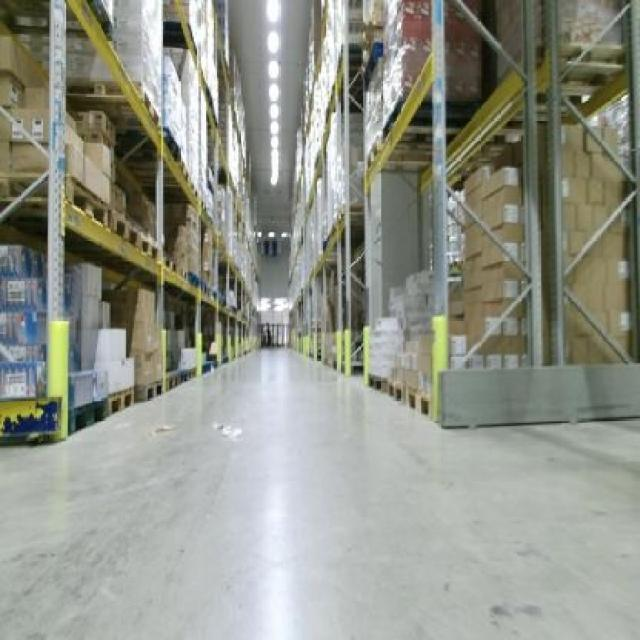floor: (0, 348, 637, 637)
